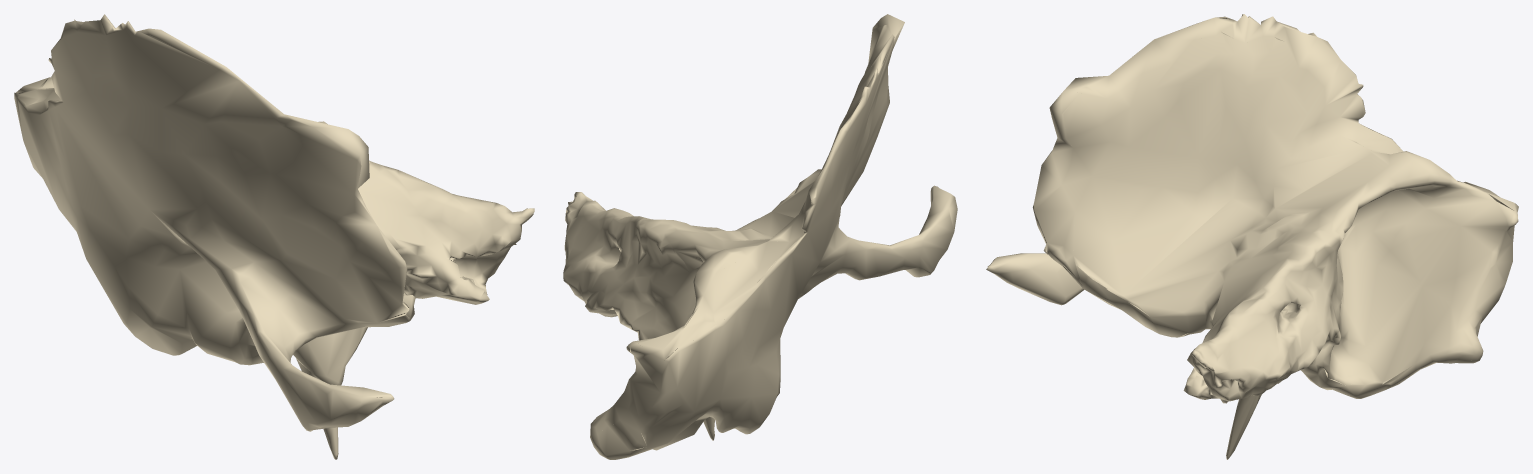
Rendered from esqueleto-temporal-bone-r.glb.
The picture shows the model from 3 angles, left to right: view 1: azimuth 30°, elevation 25°; view 2: azimuth 150°, elevation 25°; view 3: azimuth 270°, elevation 25°; orthographic projection. The views are drawn at different scales.
Visible parts, largest first — view 1: Temporal bone.r; view 2: Temporal bone.r; view 3: Temporal bone.r.
Boxes of the visible parts, <box> form: Temporal bone.r: <box>14,14,534,459</box>; Temporal bone.r: <box>563,14,957,459</box>; Temporal bone.r: <box>986,14,1518,459</box>.
Size of the model in its own units: 0.0628 by 0.0744 by 0.0963.
